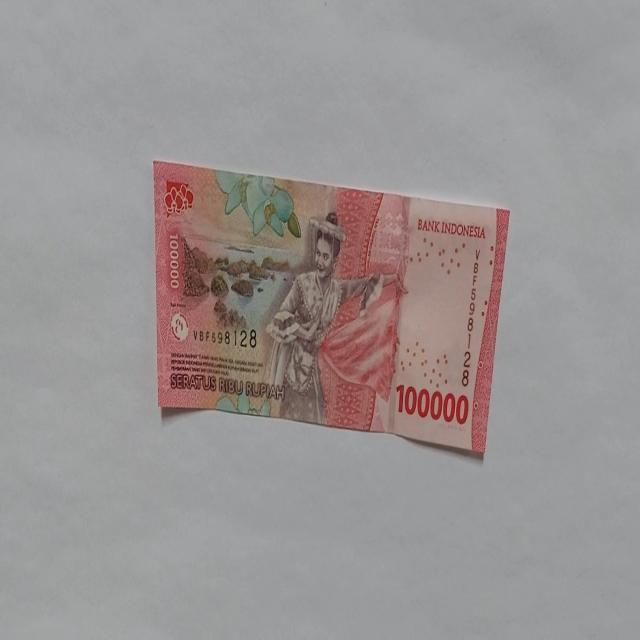seratus ribu rupiah: (152, 159, 510, 460), (260, 210, 386, 426)
